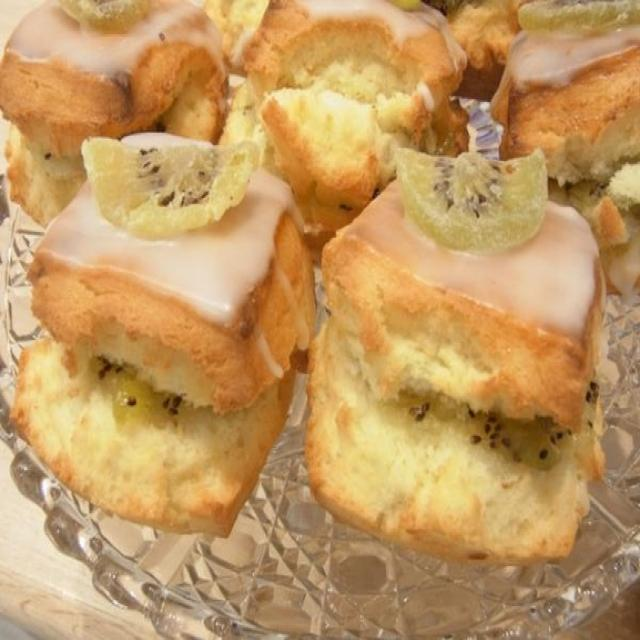面包点心: (302, 108, 611, 567)
